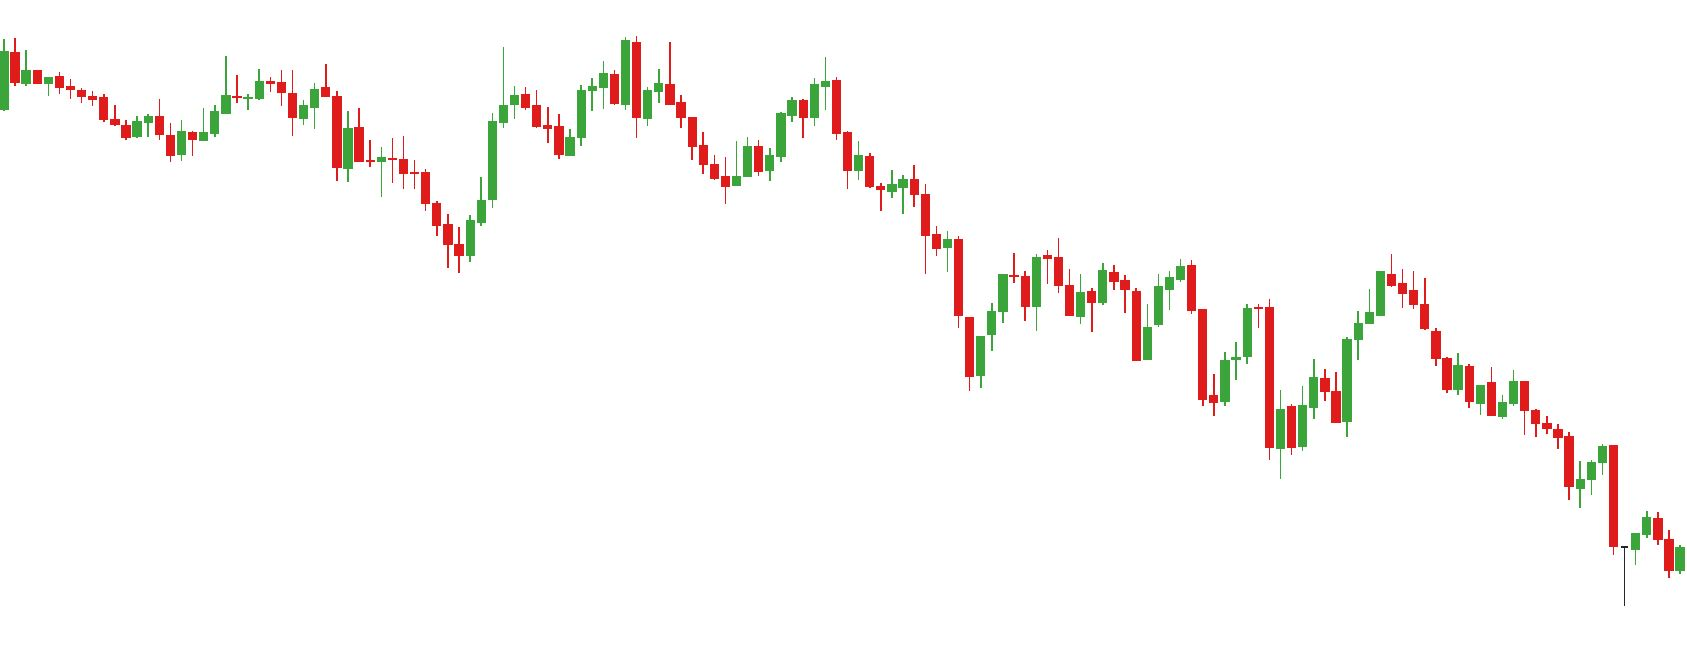sell: (1239, 253, 1421, 382), (494, 32, 643, 106)
